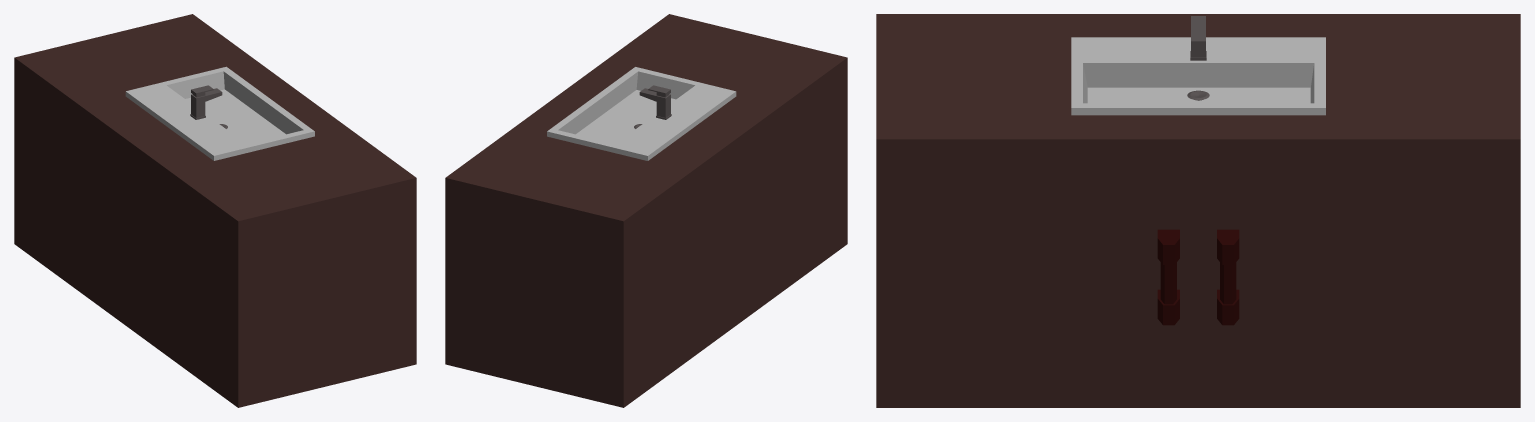
Rendered from KitchenCabinetDoubleWithSink.fbx.
3 renders of one model, left to right at view 1: azimuth 30°, elevation 25°; view 2: azimuth 150°, elevation 25°; view 3: azimuth 270°, elevation 25°, orthographic. The views are drawn at different scales.
Parts seen in each view (by area): view 1: KitchenCabinetDoubleWithSink, KitchenCabinetDoubleWithSink.002; view 2: KitchenCabinetDoubleWithSink, KitchenCabinetDoubleWithSink.002; view 3: Doors.004, Doors.005, KitchenCabinetDoubleWithSink, KitchenCabinetDoubleWithSink.002.
Boxes of the visible parts, x1,y1,x2,y2 form: KitchenCabinetDoubleWithSink: [14, 14, 416, 407]; KitchenCabinetDoubleWithSink.002: [125, 66, 314, 160]; KitchenCabinetDoubleWithSink: [445, 14, 847, 407]; KitchenCabinetDoubleWithSink.002: [547, 67, 736, 160]; Doors.004: [882, 143, 1192, 403]; Doors.005: [1204, 143, 1514, 403]; KitchenCabinetDoubleWithSink: [876, 14, 1520, 407]; KitchenCabinetDoubleWithSink.002: [1071, 16, 1325, 115].
Size of the model in its own units: 674 by 701 by 1304.
